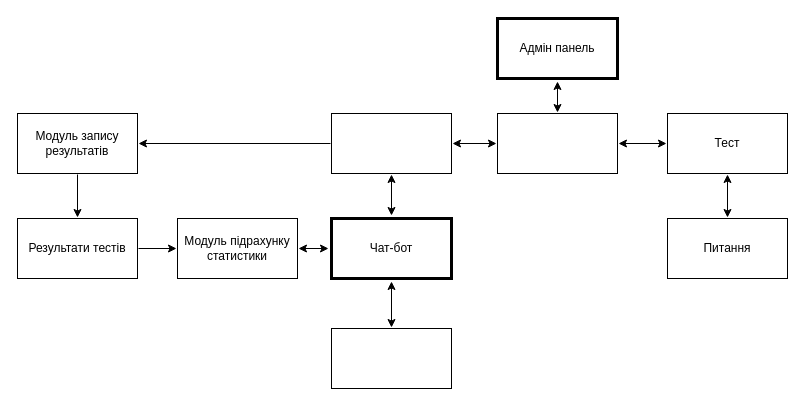
The diagram is 805 pixels wide and 406 high, and some of its shapes have lost their labels. The centre of each missing label's shape, as x and y in pixels:
TELEGRAM API: (391,358)
Менеджер тестів: (557,143)
Модуль тестування: (391,143)
